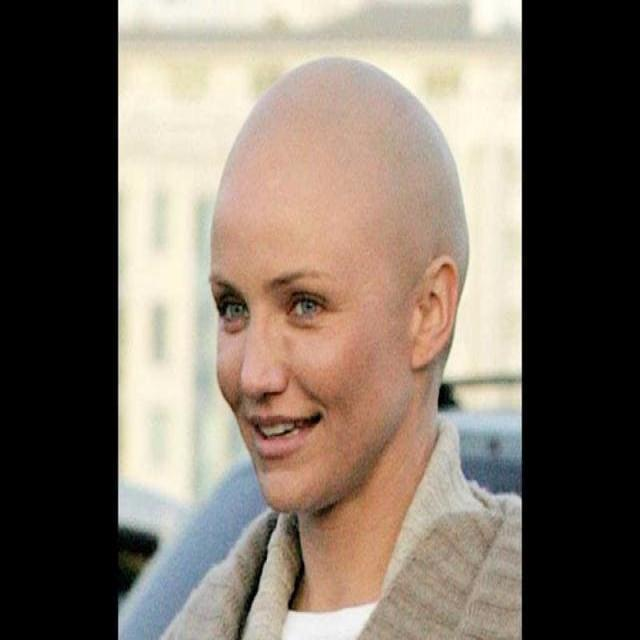no_helmet: (183, 34, 482, 306)
